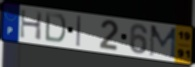2: (98, 19, 121, 53)
6: (128, 23, 148, 55)
D: (44, 11, 68, 45)
H: (19, 8, 44, 41)
I: (76, 15, 83, 49)
M: (148, 24, 178, 60)
